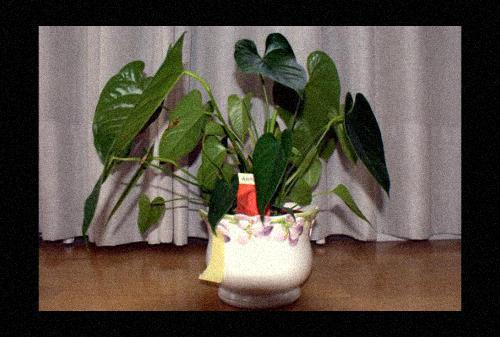Matera: (78, 37, 402, 308)
